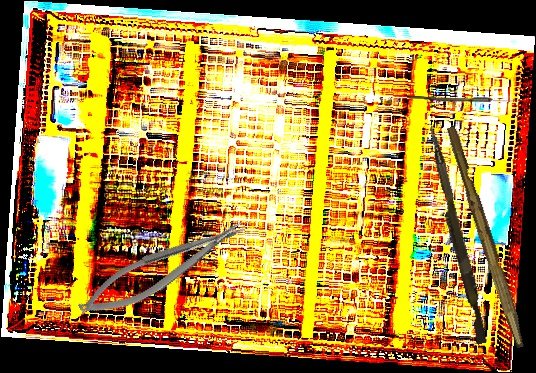Needle Holder: (71, 213, 254, 326)
Pusher: (419, 125, 494, 345)
Scalpel Handle: (441, 125, 532, 349)
Surgical Spoon: (408, 96, 521, 103)
